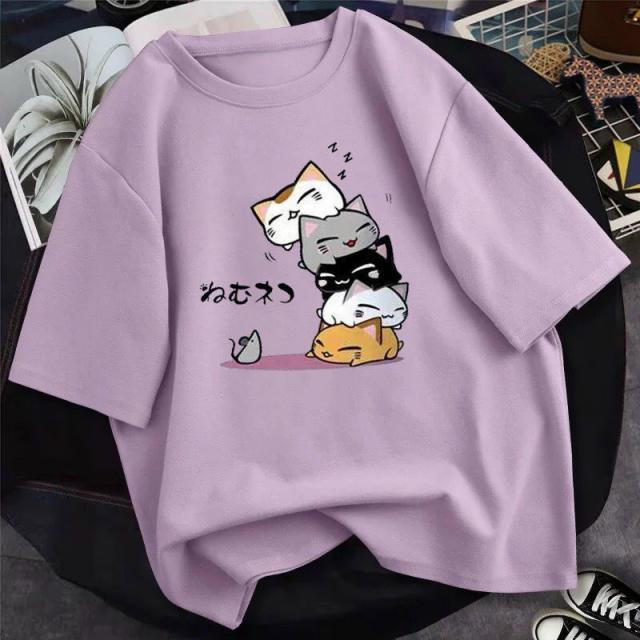Shirt: (5, 6, 636, 640)
